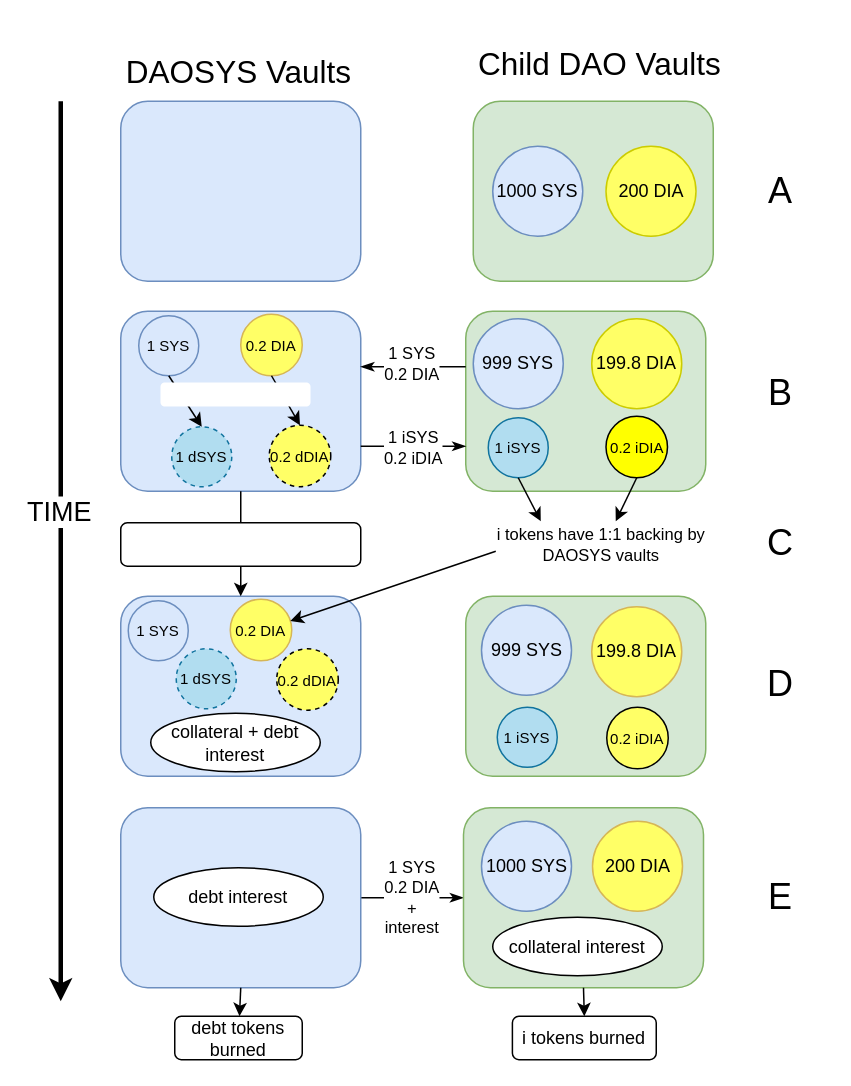
This 851x1086 diagram has some shape labels left out. Each missing label, with the box of its shape:
debt tokens created: (160, 382, 310, 406)
DeFi Investment Engine: (119, 521, 361, 566)
